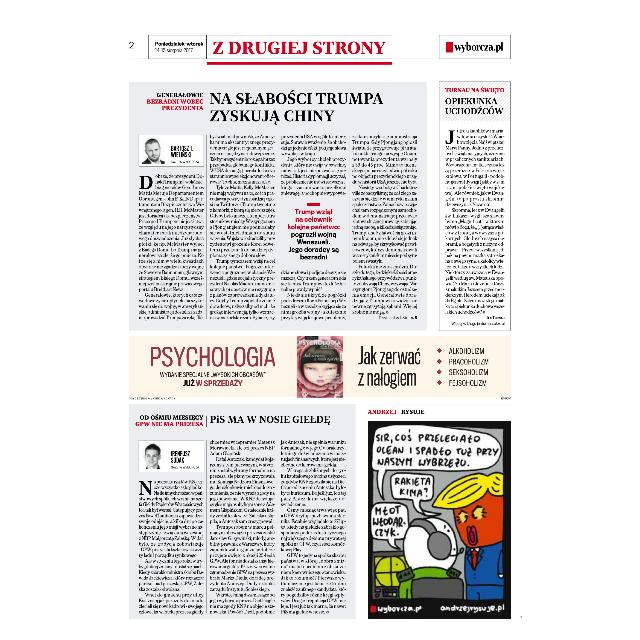article: (128, 79, 428, 331), (128, 402, 356, 620), (438, 80, 512, 332)
